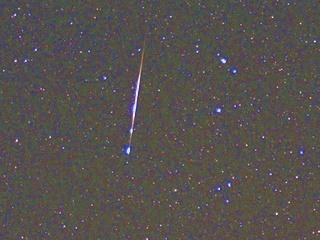meteorite: (124, 42, 152, 153)
